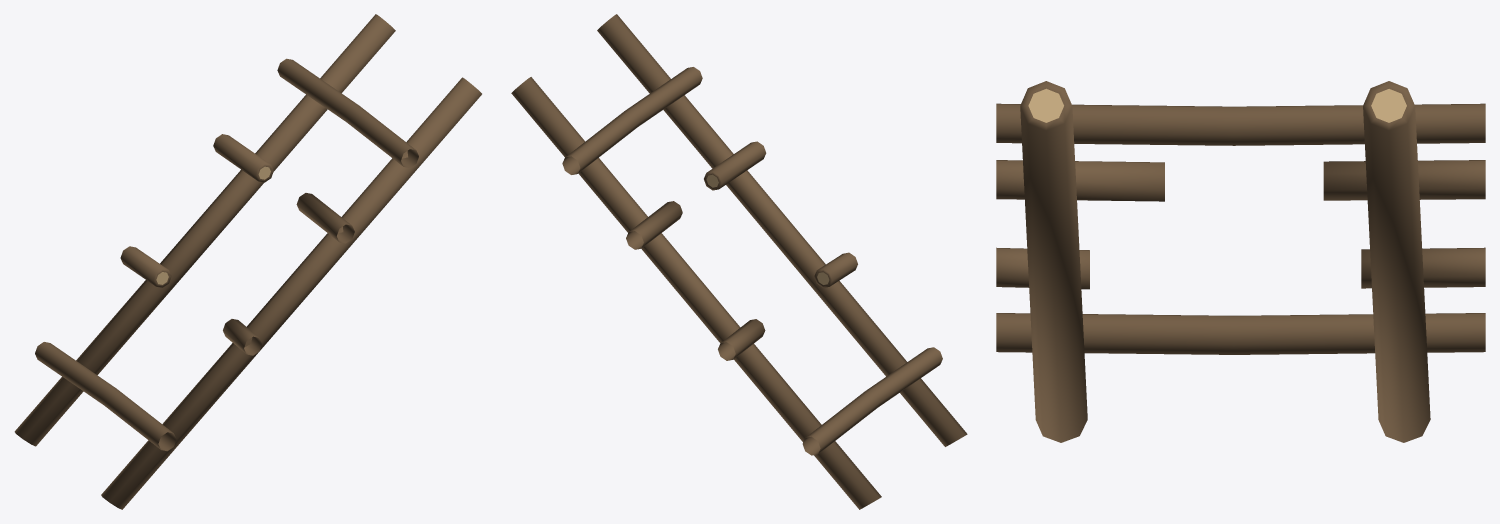
Rendered from rpgpp_ag_roof_support_01_9x4x3_half_a_roof_01c.fbx.
The picture shows the model from 3 angles, left to right: view 1: azimuth 30°, elevation 25°; view 2: azimuth 150°, elevation 25°; view 3: azimuth 270°, elevation 25°; orthographic projection. The views are drawn at different scales.
Parts seen in each view (by area): view 1: rpgpp_ag_roof_support_01_9x4x3_half_a_roof_01c; view 2: rpgpp_ag_roof_support_01_9x4x3_half_a_roof_01c; view 3: rpgpp_ag_roof_support_01_9x4x3_half_a_roof_01c.
Boxes of the visible parts, x1=… form: rpgpp_ag_roof_support_01_9x4x3_half_a_roof_01c: x1=14, y1=14, x2=481, y2=509; rpgpp_ag_roof_support_01_9x4x3_half_a_roof_01c: x1=511, y1=14, x2=967, y2=509; rpgpp_ag_roof_support_01_9x4x3_half_a_roof_01c: x1=996, y1=81, x2=1485, y2=442.
Size of the model in its own units: 5.24 by 4.67 by 3.
